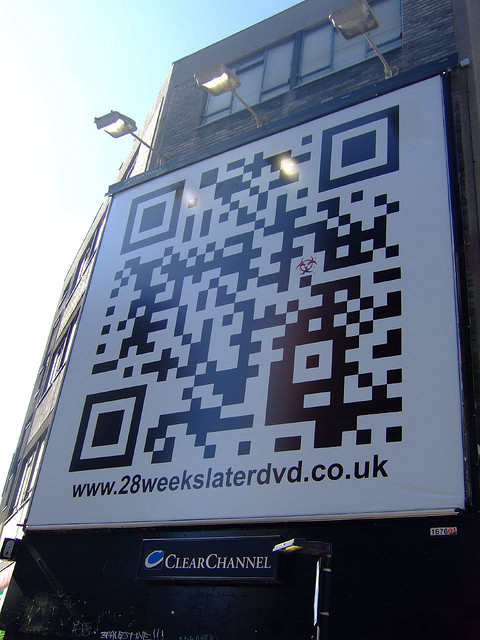QR-CODE: (68, 103, 402, 471)
